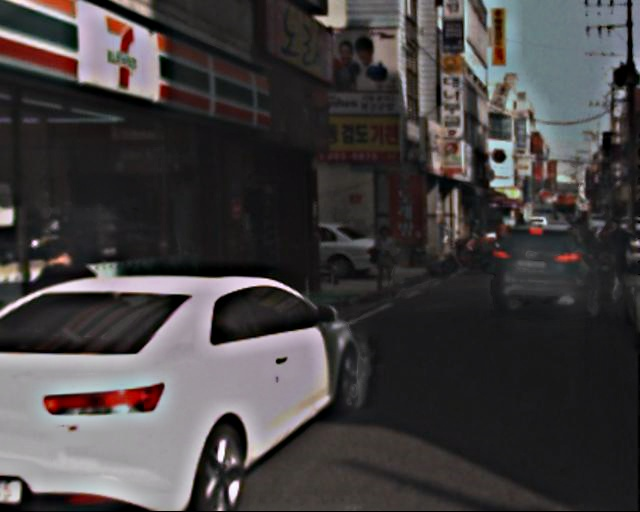person: (27, 227, 106, 379), (371, 223, 411, 302), (608, 219, 640, 282)
